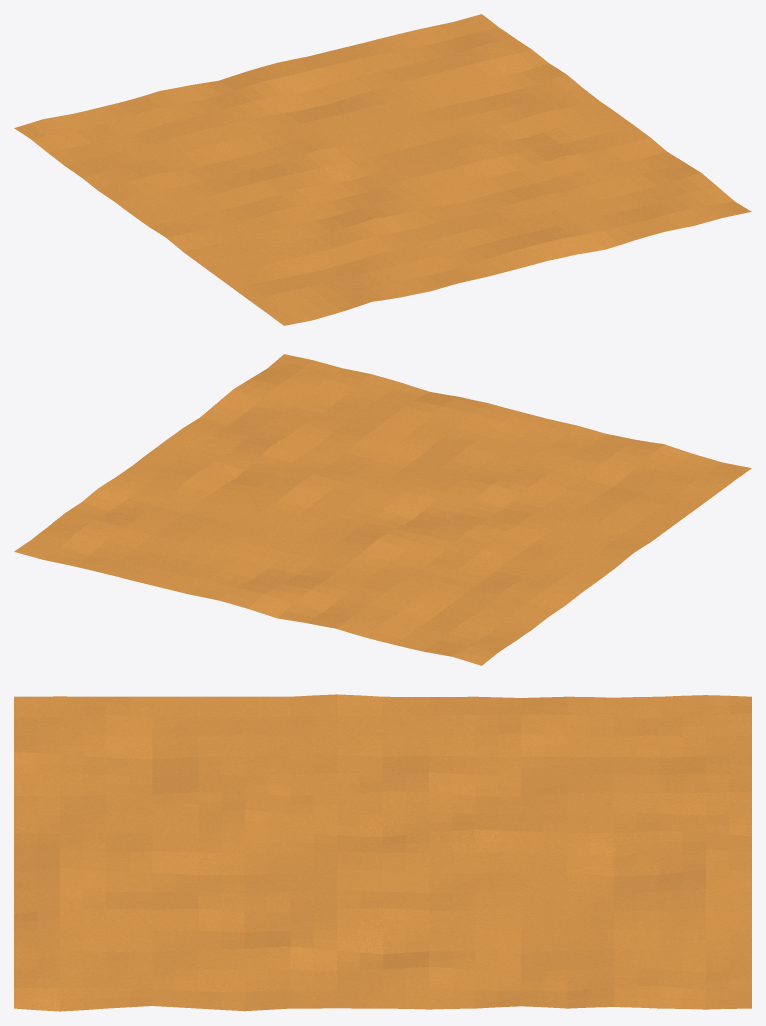
The model's file is OSR_sand.glb.
3 renders of one model, top to bottom at view 1: azimuth 30°, elevation 25°; view 2: azimuth 150°, elevation 25°; view 3: azimuth 270°, elevation 25°, orthographic. The views are drawn at different scales.
Visible parts, largest first — view 1: sand; view 2: sand; view 3: sand.
Part boxes in pixels (left/top/right/bottom): sand: left=14, top=14, right=751, bottom=325; sand: left=14, top=354, right=751, bottom=665; sand: left=14, top=694, right=751, bottom=1011.
Size of the model in its own units: 23.85 by 0.3144 by 23.85.
1 material, 1 textured.
